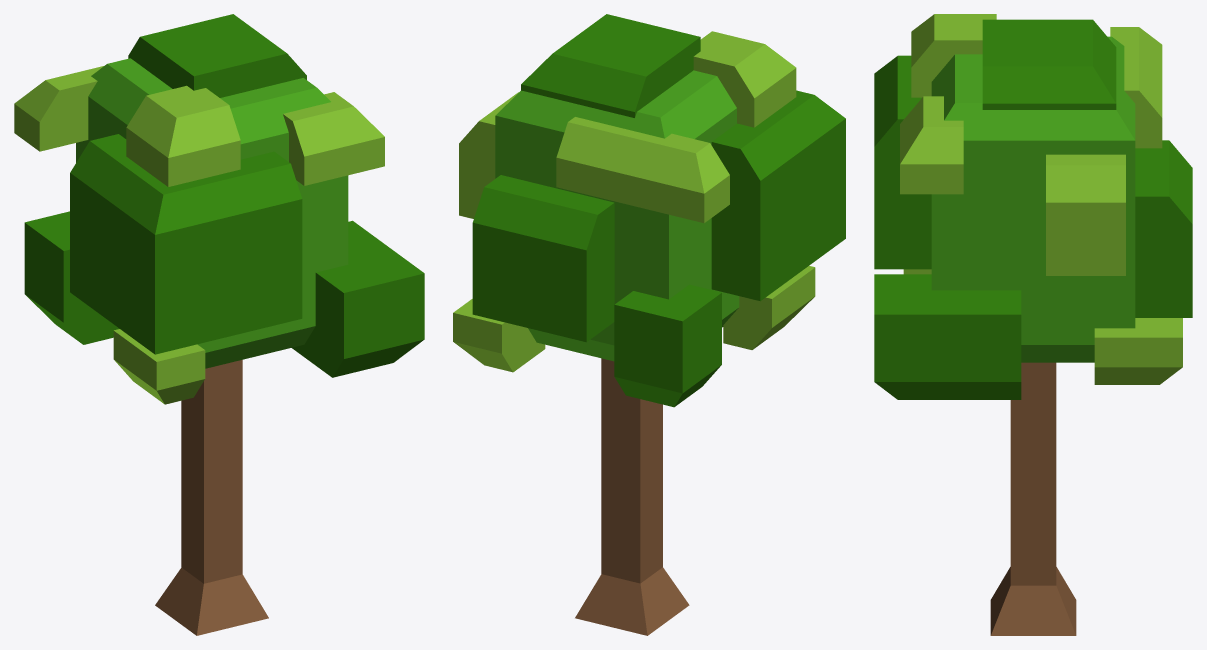
Rendered from Tree_01.fbx.
3 renders of one model, left to right at view 1: azimuth 30°, elevation 25°; view 2: azimuth 150°, elevation 25°; view 3: azimuth 270°, elevation 25°, orthographic. The views are drawn at different scales.
Parts seen in each view (by area): view 1: Tree.004; view 2: Tree.004; view 3: Tree.004.
Part boxes in pixels (<box>): Tree.004: <box>14,14,424,635</box>; Tree.004: <box>453,14,845,635</box>; Tree.004: <box>874,14,1192,635</box>.
Size of the model in its own units: 200 by 400 by 200.
1 material, 1 textured.
